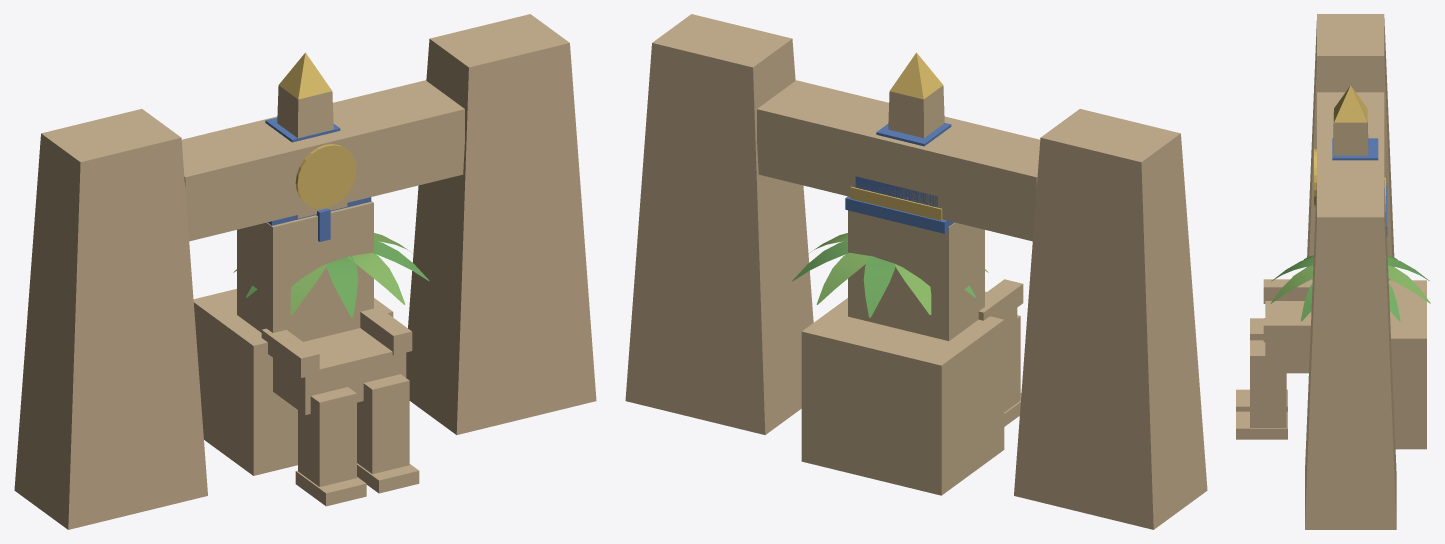
File: nr_egypt.glb
The picture shows the model from 3 angles, left to right: view 1: azimuth 30°, elevation 25°; view 2: azimuth 150°, elevation 25°; view 3: azimuth 270°, elevation 25°; orthographic projection. The views are drawn at different scales.
Visible parts, largest first — view 1: pylon, pharaoh, palm, obelisk; view 2: pylon, pharaoh, palm, obelisk; view 3: pylon, pharaoh, obelisk, palm.
Boxes of the visible parts, left/top/right/bottom form: pylon: left=14, top=14, right=596, bottom=529; pharaoh: left=193, top=117, right=419, bottom=506; palm: left=233, top=233, right=429, bottom=317; obelisk: left=277, top=52, right=333, bottom=138; pylon: left=625, top=14, right=1207, bottom=529; pharaoh: left=801, top=123, right=1023, bottom=495; palm: left=792, top=233, right=988, bottom=317; obelisk: left=888, top=52, right=944, bottom=138; pylon: left=1305, top=14, right=1396, bottom=529; pharaoh: left=1236, top=138, right=1426, bottom=449; obelisk: left=1333, top=85, right=1368, bottom=155; palm: left=1270, top=255, right=1430, bottom=321.
Bounding box in the file's own units: 34 × 24.27 × 12.75.
